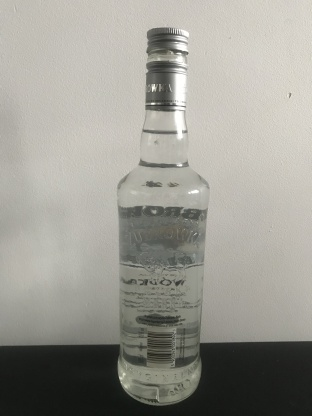nakretka: (144, 25, 190, 112)
